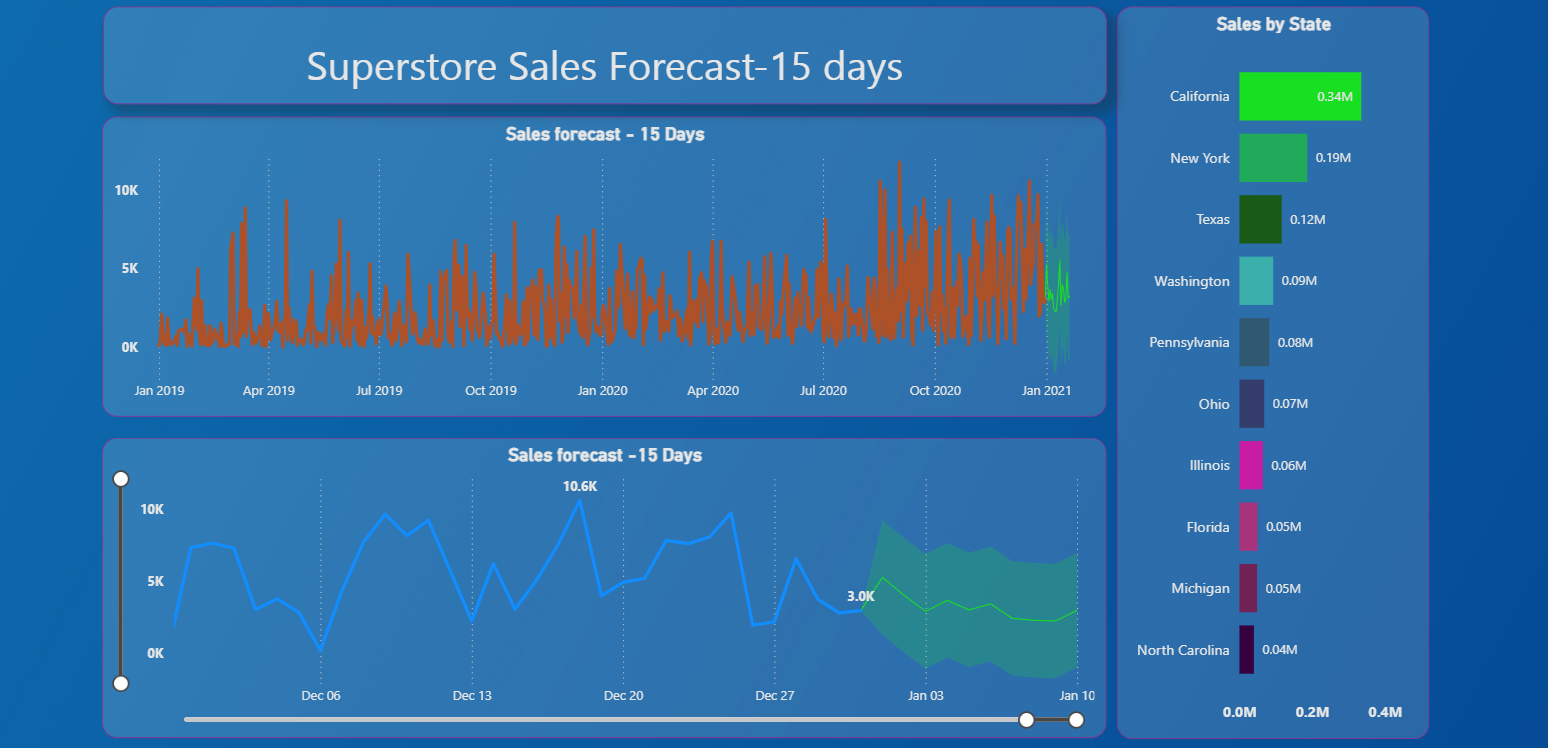

This screenshot's page, from the dashboard's own definition file:
{"tool":"powerbi","page":{"name":"Forecast","canvas":[1280,720],"ordinal":1},"visuals":[{"type":"lineChart","title":"Sales forecast -15 Days","fields":{"Y":["Sum(Sheet1.Sales)"],"Category":["Sheet1.Order Date.Variation.Date Hierarchy.Year","Sheet1.Order Date.Variation.Date Hierarchy.Quarter","Sheet1.Order Date.Variation.Date Hierarchy.Month","Sheet1.Order Date.Variation.Date Hierarchy.Day"]},"box":[18.6,414.3,937.1,280],"z":0},{"type":"lineChart","title":"Sales forecast - 15 Days","fields":{"Y":["Sum(Sheet1.Sales)"],"Category":["Sheet1.Order Date.Variation.Date Hierarchy.Year","Sheet1.Order Date.Variation.Date Hierarchy.Quarter","Sheet1.Order Date.Variation.Date Hierarchy.Month","Sheet1.Order Date.Variation.Date Hierarchy.Day"]},"box":[18.6,114.3,937.1,280],"z":1},{"type":"clusteredBarChart","fields":{"Y":["Sum(Sheet1.Sales)"],"Category":["Sheet1.State"]},"box":[965.7,11.4,291.4,682.9],"z":2},{"type":"textbox","box":[20,11.4,935.7,91.4],"z":3}]}

Visuals, with their boxes in screenshot pixels (x1, y1, x2, y2):
"Sales forecast -15 Days" lineChart: {"x1": 104, "y1": 421, "x2": 1102, "y2": 719}
"Sales forecast - 15 Days" lineChart: {"x1": 104, "y1": 102, "x2": 1102, "y2": 400}
clusteredBarChart - Sum(Sheet1.Sales) x Sheet1.State: {"x1": 1113, "y1": 0, "x2": 1423, "y2": 719}
textbox: {"x1": 106, "y1": 0, "x2": 1102, "y2": 89}
